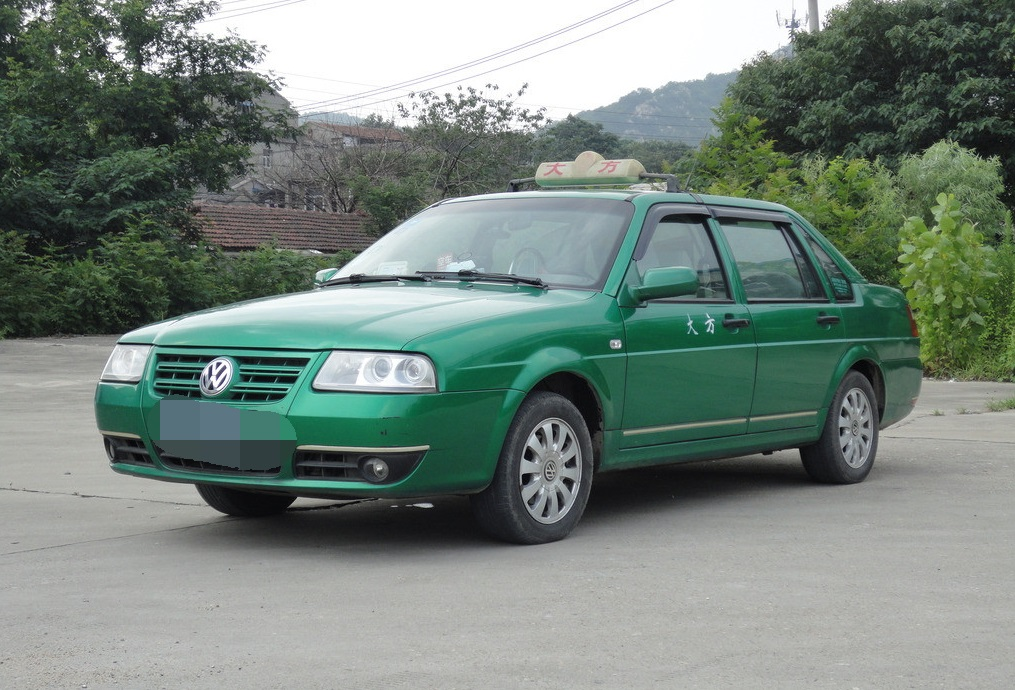taxi: (90, 144, 927, 554)
